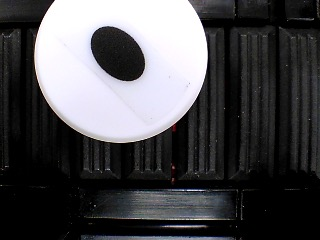BOHOEL: (33, 1, 209, 143)
